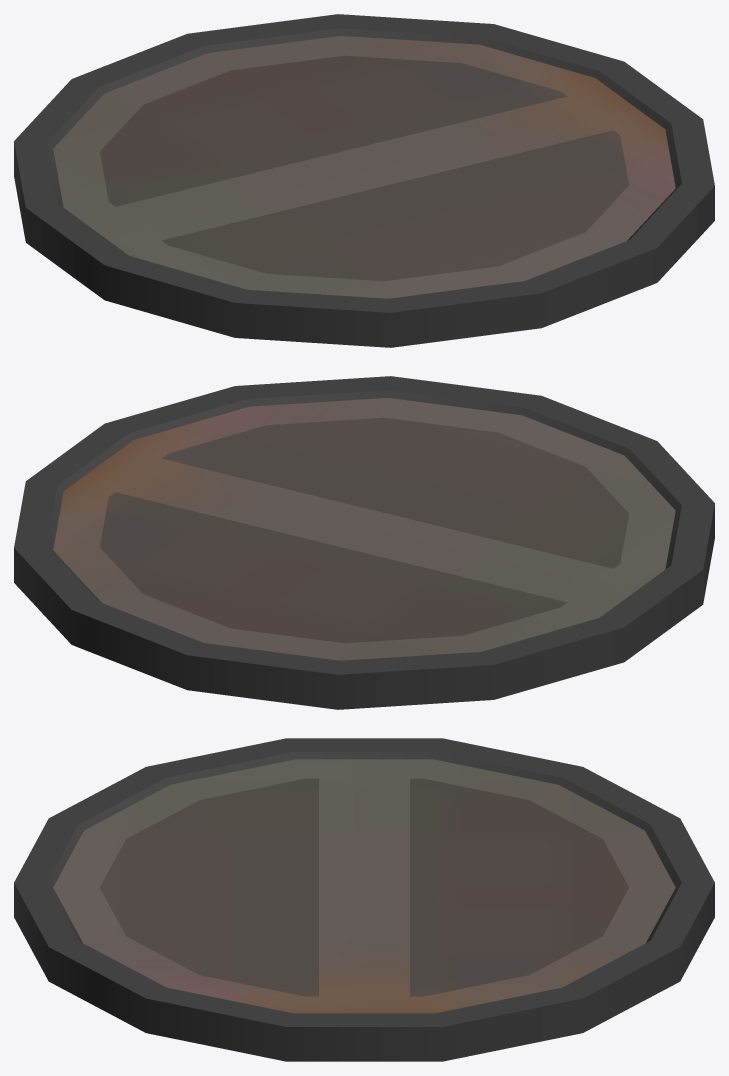
The model's file is manhole.glb.
The picture shows the model from 3 angles, top to bottom: view 1: azimuth 30°, elevation 25°; view 2: azimuth 150°, elevation 25°; view 3: azimuth 270°, elevation 25°; orthographic projection.
Parts seen in each view (by area): view 1: manhole; view 2: manhole; view 3: manhole.
Boxes of the visible parts, bbox=[...] form: manhole: bbox=[14, 14, 714, 347]; manhole: bbox=[14, 376, 714, 709]; manhole: bbox=[14, 738, 714, 1061].
Size of the model in its own units: 1.95 by 0.109 by 2.
Materials: 1 (1 with a texture image).
